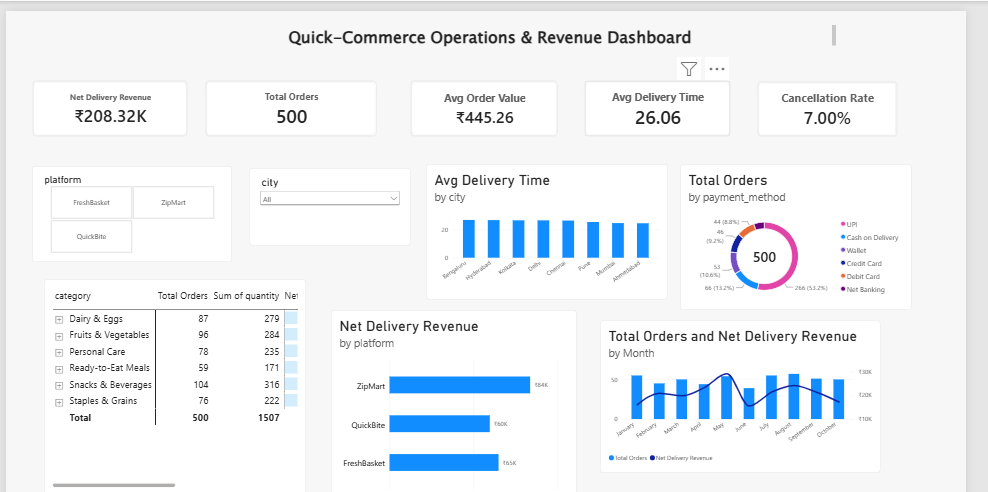

Layout of this report page (visuals, bound fields, positions):
{"tool":"powerbi","page":{"name":"Page 1","canvas":[1920,1080],"ordinal":0},"visuals":[{"type":"cardVisual","fields":{"Data":["indian_food_delivery_orders.Net Delivery Revenue"]},"box":[53.1,140.8,308.2,110.2],"z":0},{"type":"cardVisual","fields":{"Data":["indian_food_delivery_orders.Total Orders"]},"box":[400,140.8,340.8,110.2],"z":1000},{"type":"cardVisual","fields":{"Data":["indian_food_delivery_orders.Cancellation Rate"]},"box":[1504.1,142.9,277.6,108.2],"z":2000},{"type":"cardVisual","fields":{"Data":["indian_food_delivery_orders.Avg Delivery Time"]},"box":[1157.1,140.8,290,110],"z":3000},{"type":"cardVisual","fields":{"Data":["indian_food_delivery_orders.Avg Order Value"]},"box":[810.2,140.8,293.3,110],"z":4000},{"type":"lineClusteredColumnComboChart","fields":{"Category":["indian_food_delivery_orders.order date.Variation.Date Hierarchy.Month"],"Y":["indian_food_delivery_orders.Total Orders"],"Y2":["indian_food_delivery_orders.Net Delivery Revenue"]},"box":[1187.8,618.4,561.2,306.1],"z":5000},{"type":"clusteredBarChart","fields":{"Category":["indian_food_delivery_orders.platform"],"Y":["indian_food_delivery_orders.Net Delivery Revenue"]},"box":[704.1,612.2,453.1,416.3],"z":6000},{"type":"donutChart","fields":{"Category":["indian_food_delivery_orders.payment_method"],"Y":["indian_food_delivery_orders.Total Orders"]},"box":[1349,306.1,463.3,291.8],"z":7000},{"type":"pivotTable","fields":{"Rows":["indian_food_delivery_orders.category","indian_food_delivery_orders.item_name"],"Values":["indian_food_delivery_orders.Total Orders","Sum(indian_food_delivery_orders.quantity)","indian_food_delivery_orders.Net Delivery Revenue","indian_food_delivery_orders.Total discount"]},"box":[75.5,536.7,571.4,381.6],"z":8000},{"type":"clusteredColumnChart","fields":{"Category":["indian_food_delivery_orders.city"],"Y":["indian_food_delivery_orders.Avg Delivery Time"]},"box":[840.8,306.1,483.7,271.4],"z":9000},{"type":"textbox","box":[294.3,28,1366,45.3],"z":10000},{"type":"slicer","fields":{"Values":["indian_food_delivery_orders.platform"]},"box":[51,310.2,400,191.8],"z":11000},{"type":"slicer","fields":{"Values":["indian_food_delivery_orders.city"]},"box":[485.7,314.3,324.5,155.1],"z":12000}]}

Visuals, with their boxes on the page's 1920x1080 design canvas (x1, y1, x2, y2). These are canvas units, not pixel positions in the 988x492 screenshot, which may show the page scaled, cropped or inside an application window:
cardVisual - indian_food_delivery_orders.Net Delivery Revenue: 53,141,361,251
cardVisual - indian_food_delivery_orders.Total Orders: 400,141,741,251
cardVisual - indian_food_delivery_orders.Cancellation Rate: 1504,143,1782,251
cardVisual - indian_food_delivery_orders.Avg Delivery Time: 1157,141,1447,251
cardVisual - indian_food_delivery_orders.Avg Order Value: 810,141,1104,251
lineClusteredColumnComboChart - indian_food_delivery_orders.order date.Variation.Date Hierarchy.Month x indian_food_delivery_orders.Total Orders: 1188,618,1749,924
clusteredBarChart - indian_food_delivery_orders.platform x indian_food_delivery_orders.Net Delivery Revenue: 704,612,1157,1028
donutChart - indian_food_delivery_orders.payment_method x indian_food_delivery_orders.Total Orders: 1349,306,1812,598
pivotTable - indian_food_delivery_orders.category x indian_food_delivery_orders.item_name: 76,537,647,918
clusteredColumnChart - indian_food_delivery_orders.city x indian_food_delivery_orders.Avg Delivery Time: 841,306,1324,578
textbox: 294,28,1660,73
slicer - indian_food_delivery_orders.platform: 51,310,451,502
slicer - indian_food_delivery_orders.city: 486,314,810,469
